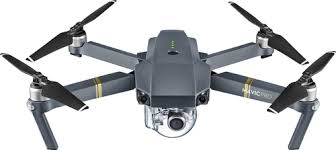Drone: (4, 2, 334, 150)
